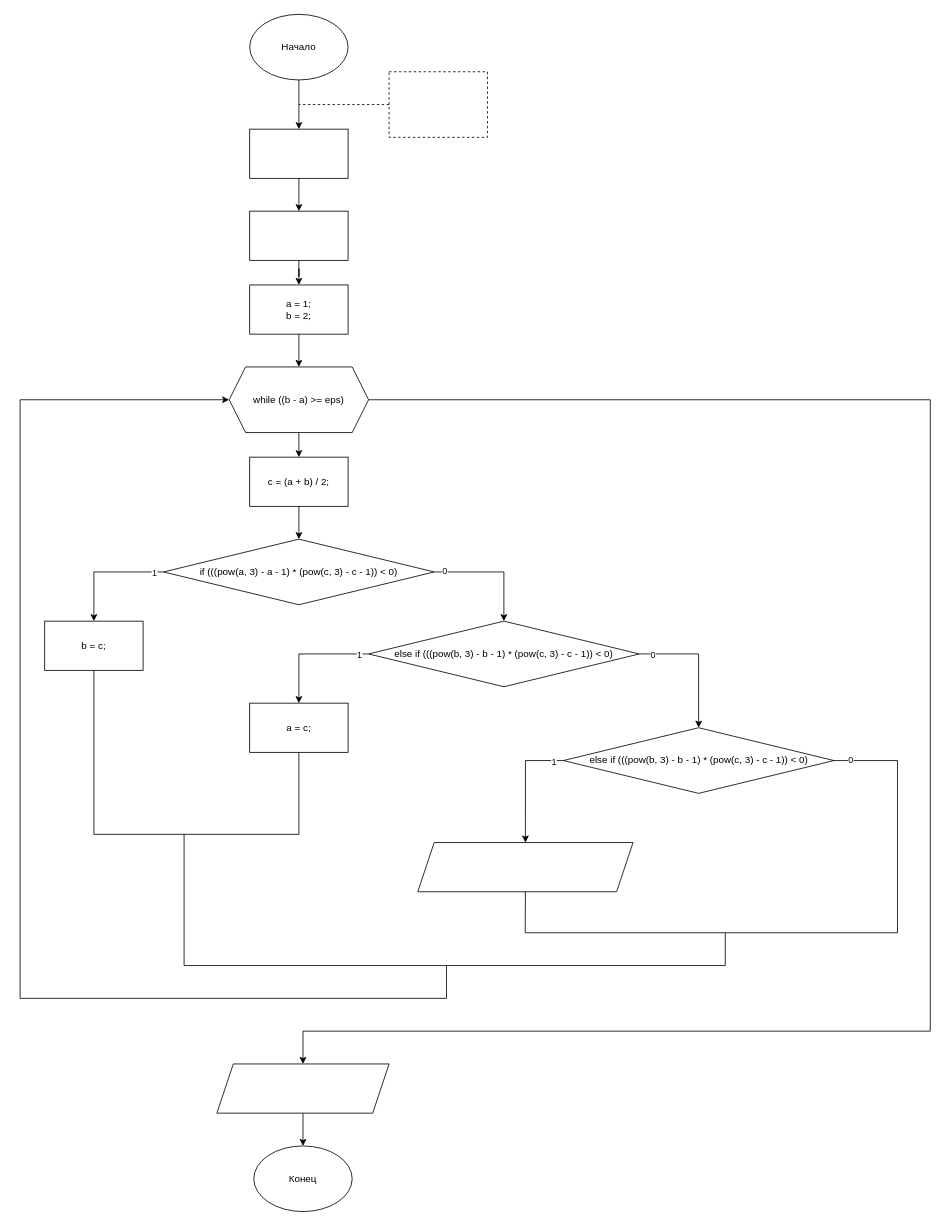
This 951x1226 diagram has some shape labels left out. Each missing label, with the centre of its shape:
#include<iostream> using namespace std; int main(){setlocale(LC_ALL, "rus");}: point 437,104
cout << "Корни: " << a << " " << b;: point 302,1088
cout << "Ошибка, что то не так!!!" << endl;: point 525,867
double eps = 0.000001;: point 298,235
float a, b, c;: point 298,153
